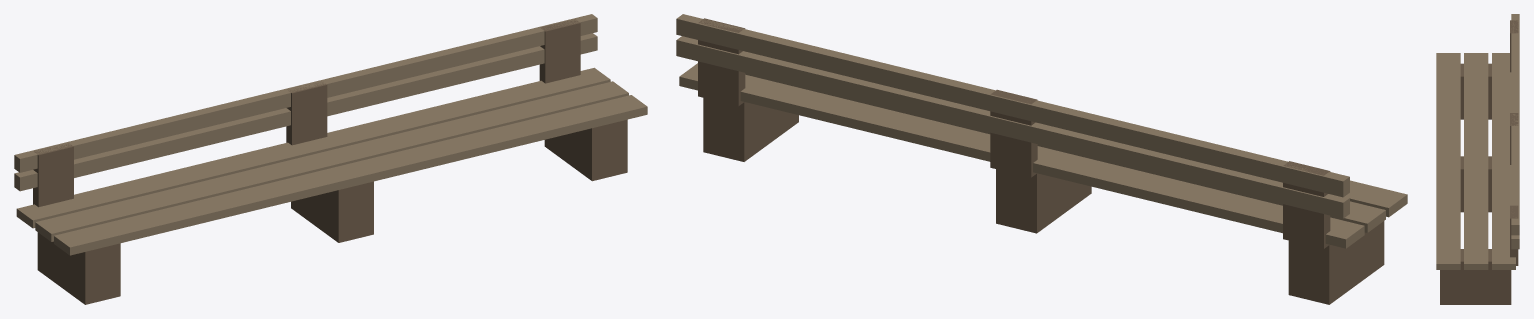
File: pew_row.glb
3 views of the same model, side by side, from view 1: azimuth 30°, elevation 25°; view 2: azimuth 150°, elevation 25°; view 3: azimuth 270°, elevation 25° (orthographic). The views are drawn at different scales.
Visible parts, largest first — view 1: pew_row; view 2: pew_row; view 3: pew_row.
Boxes of the visible parts, left/top/right/bottom form: pew_row: left=14, top=14, right=647, bottom=304; pew_row: left=676, top=14, right=1407, bottom=304; pew_row: left=1436, top=14, right=1519, bottom=304.
Bounding box in the file's own units: 5.76 × 1.1 × 0.96.
